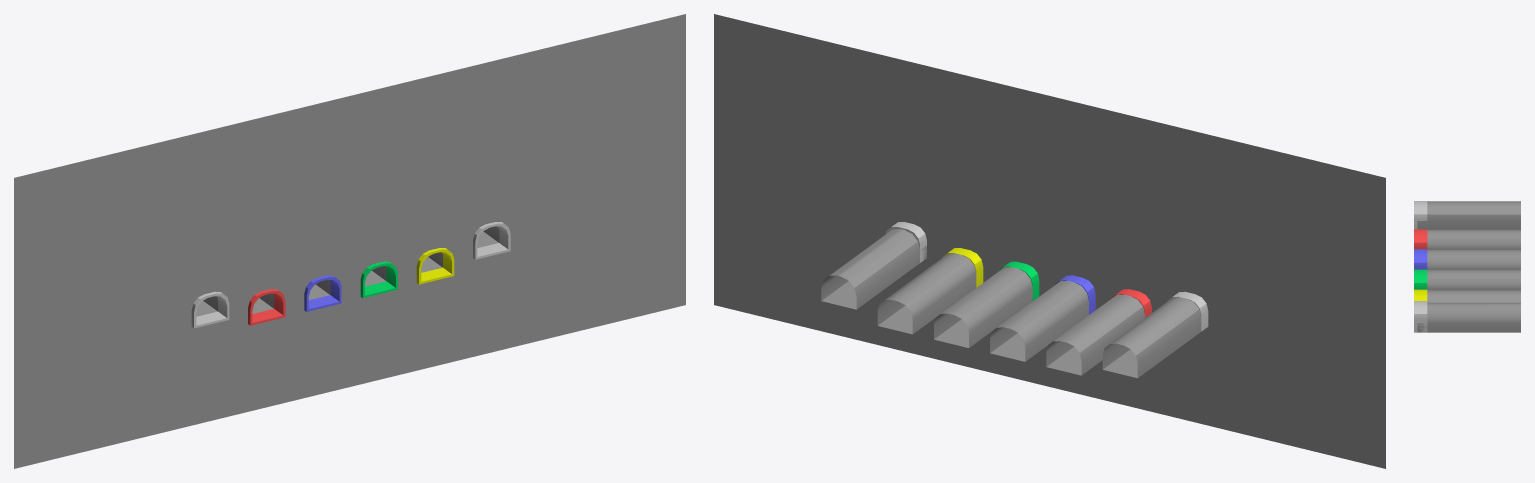
Rendered from Gate.fbx.
The picture shows the model from 3 angles, left to right: view 1: azimuth 30°, elevation 25°; view 2: azimuth 150°, elevation 25°; view 3: azimuth 270°, elevation 25°; orthographic projection. The views are drawn at different scales.
Visible parts, largest first — view 1: polySurface5, pCube40, pCube41, pCube39, pCube37, pCube38, pCube36; view 2: polySurface5; view 3: polySurface5, pCube40, pCube41, pCube37, pCube38, pCube36, pCube39.
Part boxes in pixels (x1,y1,x2,y2): polySurface5: (14, 14, 685, 468); pCube40: (473, 222, 510, 259); pCube41: (191, 291, 229, 328); pCube39: (416, 248, 454, 284); pCube37: (304, 275, 341, 311); pCube38: (360, 261, 397, 298); pCube36: (248, 289, 285, 325); polySurface5: (714, 14, 1385, 468); polySurface5: (1417, 201, 1520, 332); pCube40: (1414, 301, 1427, 332); pCube41: (1414, 201, 1427, 229); pCube37: (1414, 249, 1427, 269); pCube38: (1414, 269, 1427, 289); pCube36: (1414, 229, 1427, 249); pCube39: (1414, 289, 1427, 300).
Bounding box in the file's own units: 2120 × 878 × 398.
